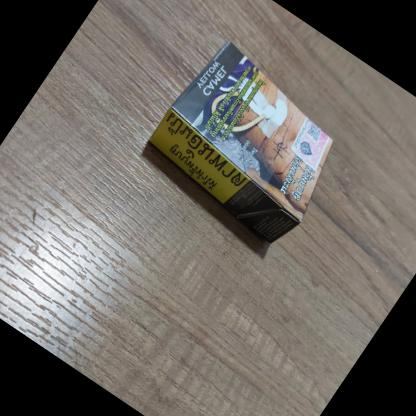box: (131, 25, 372, 258)
